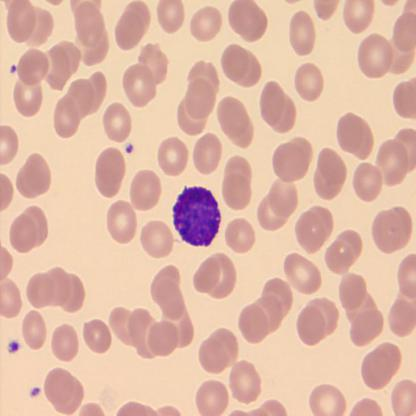Basophil: (170, 183, 222, 249)
